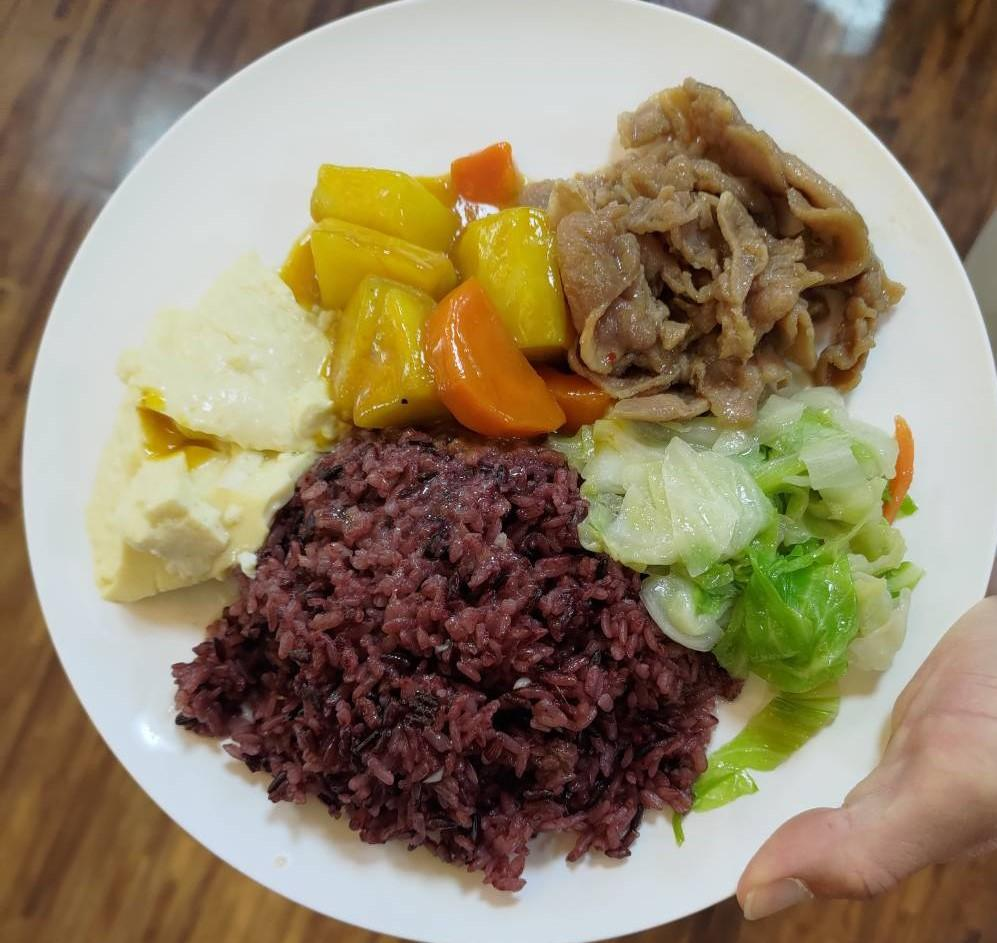big fried chicken leg: (22, 2, 997, 941)
braised fish: (180, 422, 719, 888)
braised fish fillet: (584, 374, 922, 815), (300, 148, 597, 442), (95, 258, 328, 607)
braised pork: (546, 78, 899, 404)
